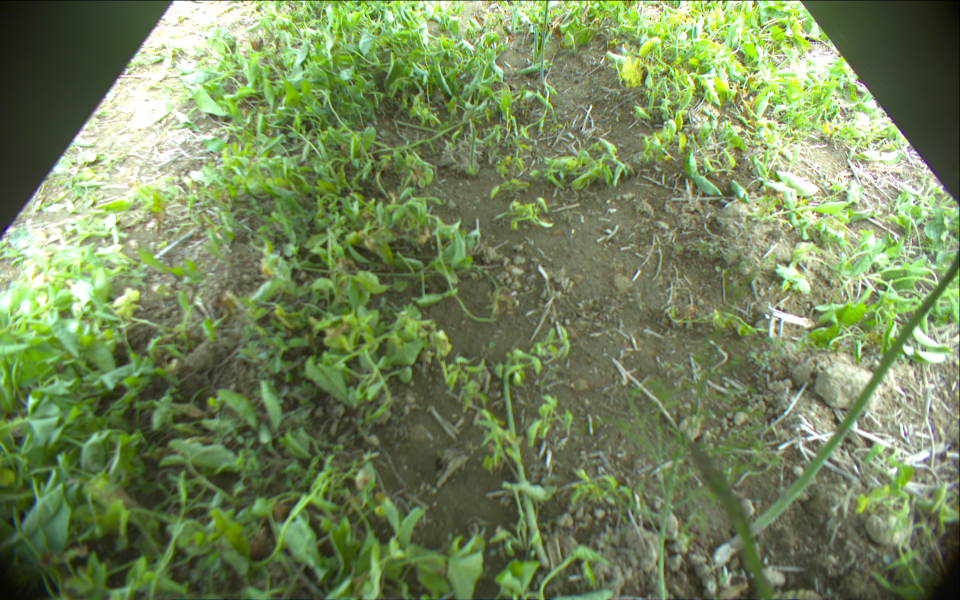aspa: (708, 242, 960, 565), (686, 444, 773, 600), (498, 358, 549, 566), (658, 430, 683, 600), (539, 1, 559, 91)
